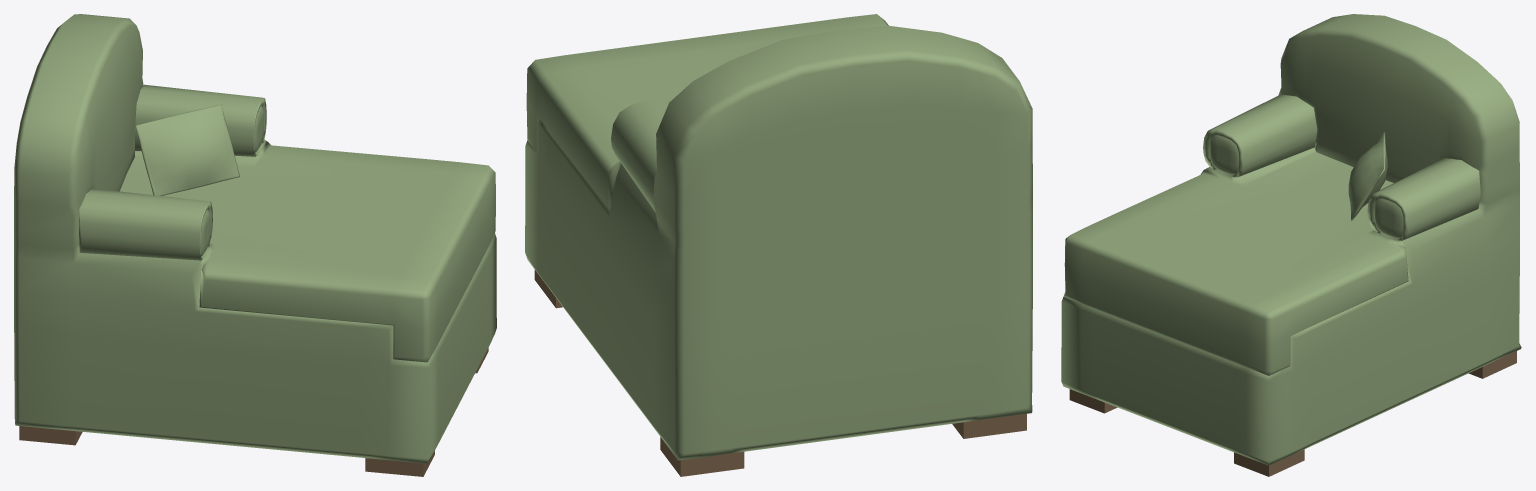
Rendered from misk_recliner.fbx.
3 renders of one model, left to right at view 1: azimuth 30°, elevation 25°; view 2: azimuth 150°, elevation 25°; view 3: azimuth 270°, elevation 25°, orthographic. The views are drawn at different scales.
Visible parts, largest first — view 1: cushionedChair_mesh; view 2: cushionedChair_mesh; view 3: cushionedChair_mesh.
Boxes of the visible parts, bbox=[...] form: cushionedChair_mesh: bbox=[14, 14, 496, 476]; cushionedChair_mesh: bbox=[525, 14, 1032, 476]; cushionedChair_mesh: bbox=[1061, 14, 1521, 476].
Bounding box in the file's own units: 1.45 × 1.03 × 1.43.
